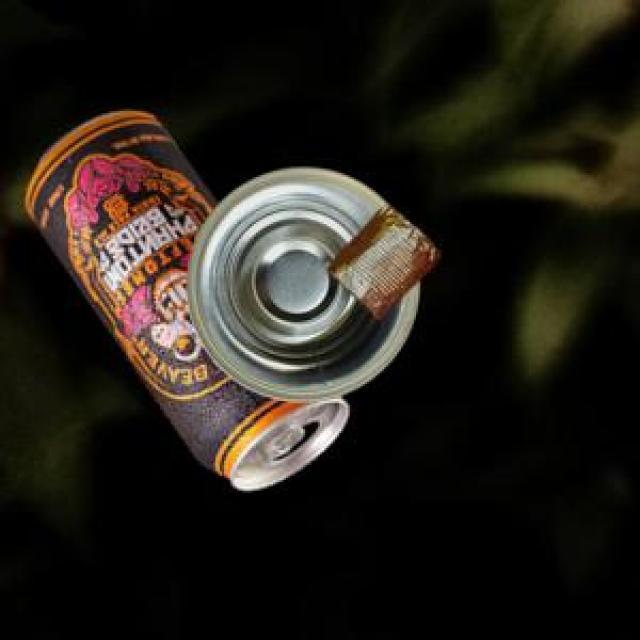Can: (25, 108, 345, 487), (185, 163, 417, 398), (325, 204, 436, 317)
